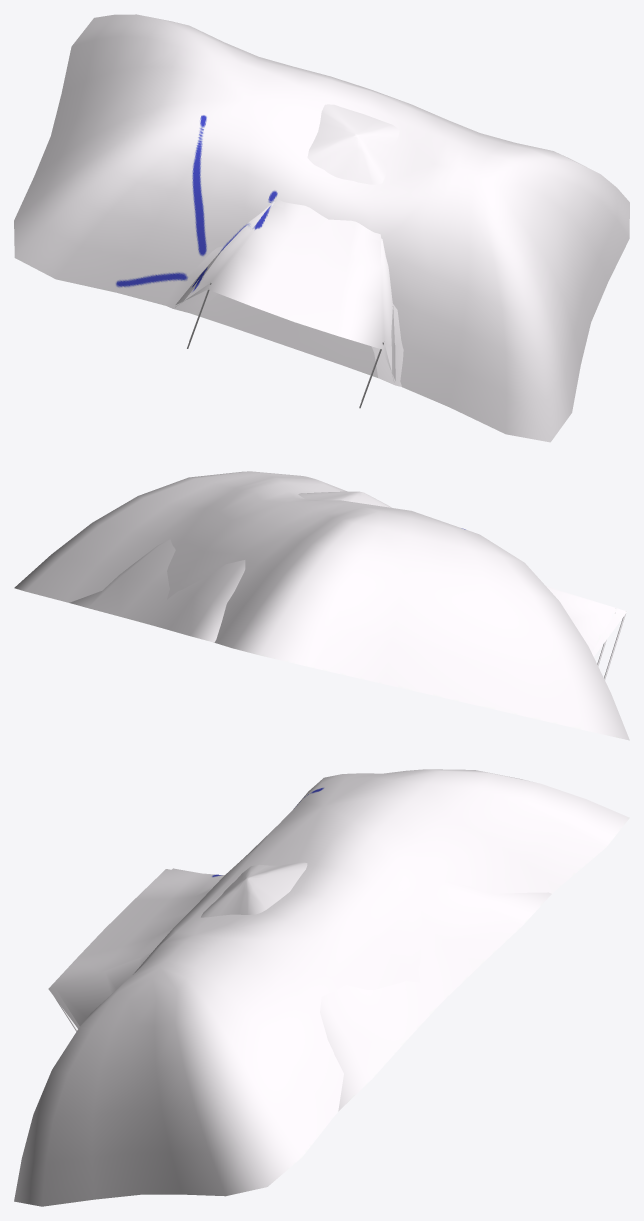
File: doubt.fbx
3 views of the same model, one above another, from view 1: azimuth 30°, elevation 25°; view 2: azimuth 150°, elevation 25°; view 3: azimuth 270°, elevation 25° (orthographic). The views are drawn at different scales.
Parts seen in each view (by area): view 1: node_id6, node_id4; view 2: node_id6, node_id4; view 3: node_id6, node_id4.
Boxes of the visible parts, left/top/right/bottom form: node_id6: left=14, top=14, right=629, bottom=442; node_id4: left=165, top=104, right=403, bottom=400; node_id6: left=14, top=471, right=629, bottom=740; node_id4: left=69, top=491, right=616, bottom=666; node_id6: left=14, top=769, right=629, bottom=1206; node_id4: left=55, top=862, right=551, bottom=1111.
Size of the model in its own units: 0.5667 by 0.2957 by 0.4858.
2 materials, 2 textured.
